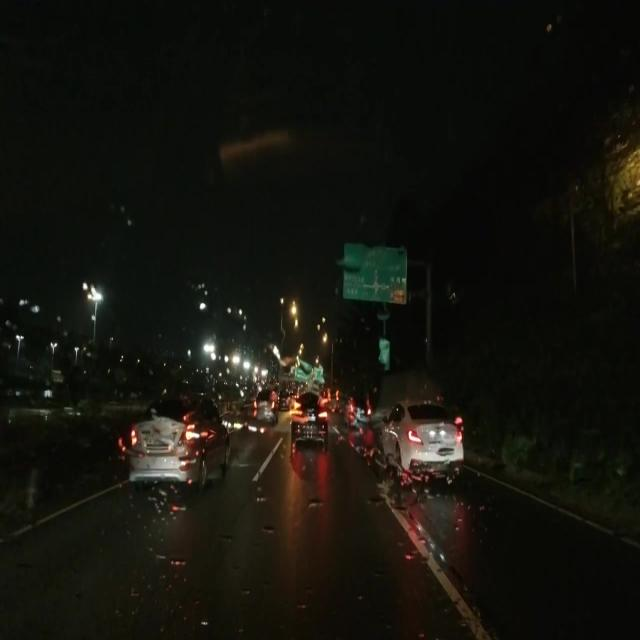Car: (126, 401, 227, 494), (381, 404, 460, 493), (289, 392, 328, 451)
